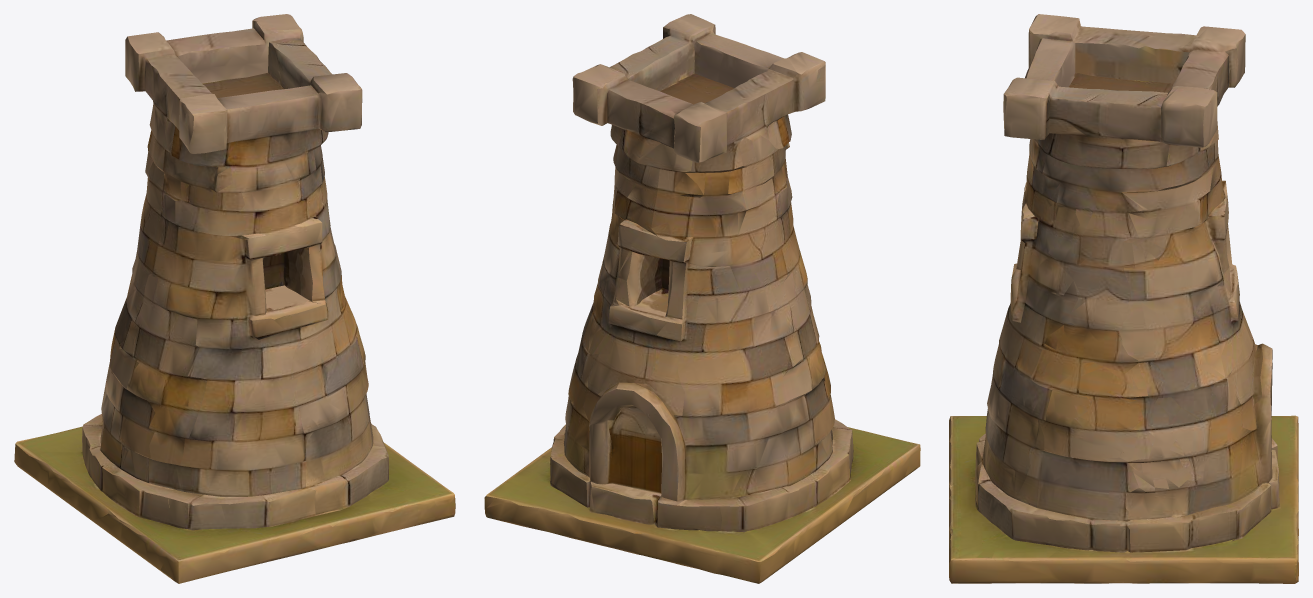
The model's file is cheomseongdae.glb.
3 renders of one model, left to right at view 1: azimuth 30°, elevation 25°; view 2: azimuth 150°, elevation 25°; view 3: azimuth 270°, elevation 25°, orthographic. The views are drawn at different scales.
Parts seen in each view (by area): view 1: logan-textured.obj; view 2: logan-textured.obj; view 3: logan-textured.obj.
Boxes of the visible parts, <box> form: logan-textured.obj: <box>14,14,455,583</box>; logan-textured.obj: <box>484,14,920,583</box>; logan-textured.obj: <box>949,14,1298,583</box>.
Size of the model in its own units: 0.685 by 1 by 0.6969.
1 material, 1 textured.
